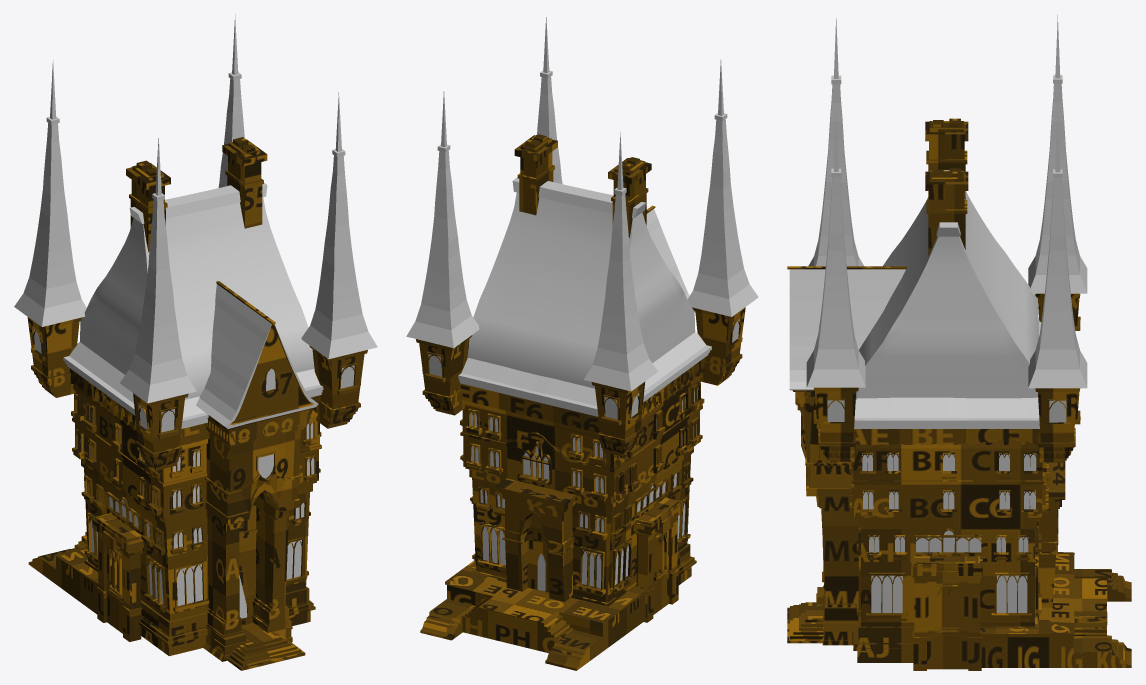
File: House3.fbx
3 renders of one model, left to right at view 1: azimuth 30°, elevation 25°; view 2: azimuth 150°, elevation 25°; view 3: azimuth 270°, elevation 25°, orthographic. The views are drawn at different scales.
Visible parts, largest first — view 1: MainBody, FrontBody, Tower4, Tower5, Tower7, Side3, Chimney3, BackStairs, FrontStairs, Chimney5, Tower6; view 2: MainBody, BackStairs, Tower7, Tower6, Tower4, BackBody, Side3, Chimney3, Chimney5, Tower5, BackDoor, FrontBody; view 3: MainBody, FrontBody, BackStairs, Tower6, Tower5, Side2, Tower7, Tower4, Chimney3, BackBody, Chimney5, FrontStairs.
Part boxes in pixels (bbox=[...]): MainBody: bbox=[63, 183, 323, 656]; FrontBody: bbox=[196, 281, 318, 661]; Tower4: bbox=[120, 138, 196, 470]; Tower5: bbox=[301, 92, 377, 428]; Tower7: bbox=[14, 60, 86, 397]; Side3: bbox=[92, 513, 143, 641]; Chimney3: bbox=[222, 137, 267, 228]; BackStairs: bbox=[28, 532, 98, 614]; FrontStairs: bbox=[227, 623, 305, 670]; Chimney5: bbox=[126, 160, 170, 252]; Tower6: bbox=[218, 14, 244, 187]; MainBody: bbox=[458, 177, 711, 606]; BackStairs: bbox=[420, 560, 646, 670]; Tower7: bbox=[583, 132, 657, 456]; Tower6: bbox=[406, 91, 479, 415]; Tower4: bbox=[687, 60, 758, 385]; BackBody: bbox=[495, 478, 577, 601]; Side3: bbox=[633, 497, 682, 622]; Chimney3: bbox=[514, 134, 557, 215]; Chimney5: bbox=[608, 157, 651, 237]; Tower5: bbox=[537, 17, 562, 184]; BackDoor: bbox=[527, 513, 548, 592]; FrontBody: bbox=[646, 205, 694, 311]; MainBody: bbox=[849, 170, 1049, 662]; FrontBody: bbox=[787, 266, 907, 645]; BackStairs: bbox=[980, 552, 1131, 667]; Tower6: bbox=[1028, 109, 1087, 462]; Tower5: bbox=[806, 111, 865, 461]; Side2: bbox=[911, 556, 982, 670]; Tower7: bbox=[1028, 14, 1087, 330]; Tower4: bbox=[808, 18, 863, 266]; Chimney3: bbox=[925, 168, 968, 255]; BackBody: bbox=[1035, 461, 1065, 607]; Chimney5: bbox=[925, 118, 968, 200]; FrontStairs: bbox=[787, 602, 824, 643].
Size of the model in its own units: 14.04 by 30.95 by 17.03.
